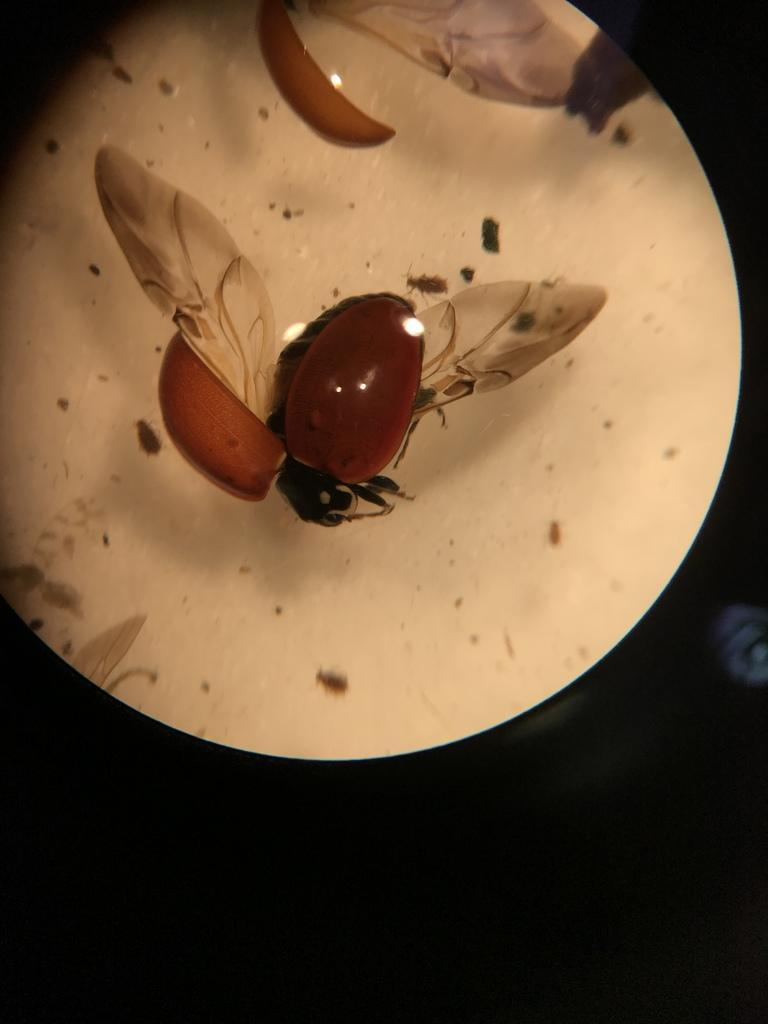ladybug: (89, 136, 614, 534), (249, 1, 599, 154)
